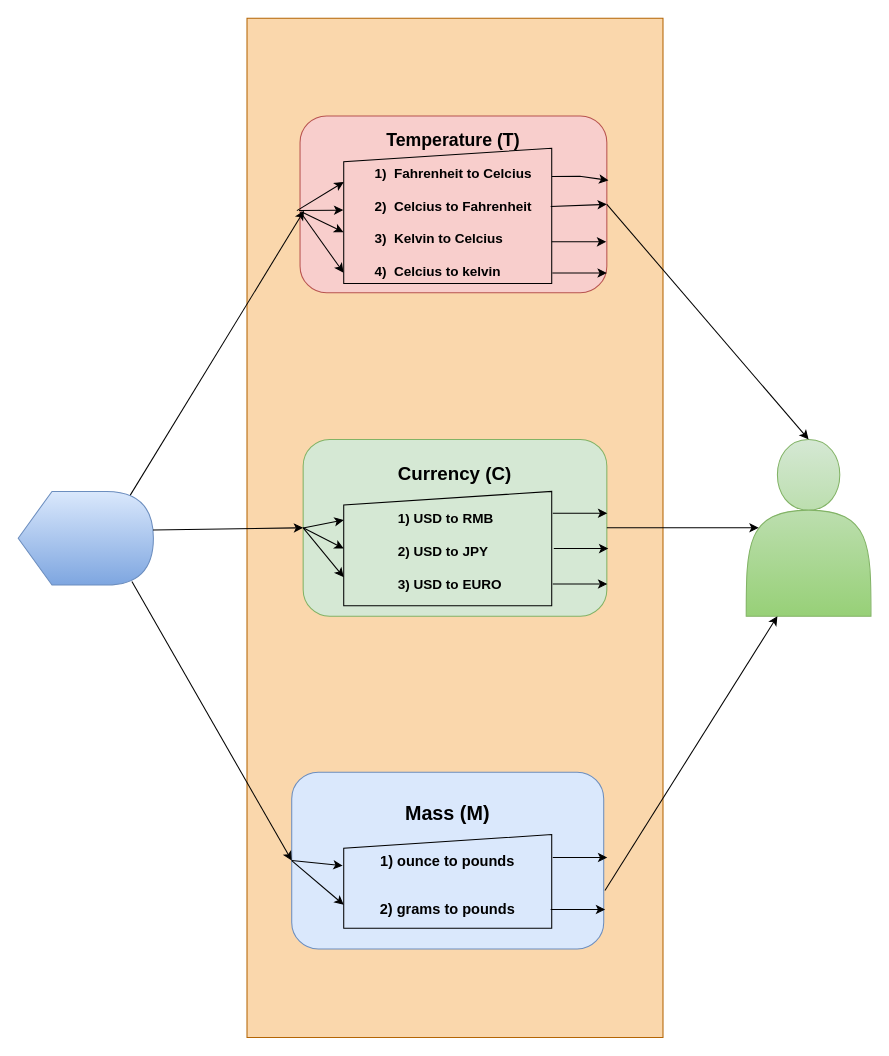
Some shapes in this 889 by 1056 pixel diagram are drawn without their labels. The shapes that lost their labels are listed below. From the top down, each one's centre as x and y in pixels, then its label:
At (85,537): "DISPLAY".
At (808,527): "User".
